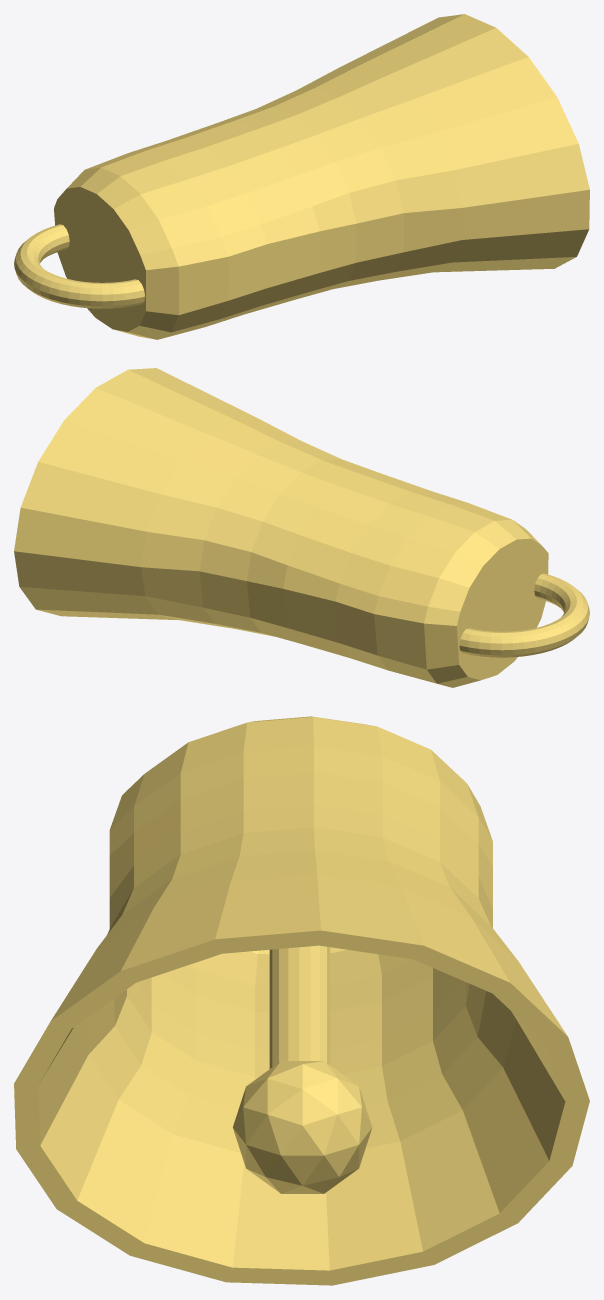
Rendered from Cow Bell.fbx.
3 views of the same model, one above another, from view 1: azimuth 30°, elevation 25°; view 2: azimuth 150°, elevation 25°; view 3: azimuth 270°, elevation 25° (orthographic). The views are drawn at different scales.
Parts seen in each view (by area): view 1: Cylinder; view 2: Cylinder; view 3: Cylinder.
Boxes of the visible parts, <box> form: Cylinder: <box>14,14,589,339</box>; Cylinder: <box>14,368,589,687</box>; Cylinder: <box>14,716,589,1285</box>.
Size of the model in its own units: 918 by 389 by 573.
